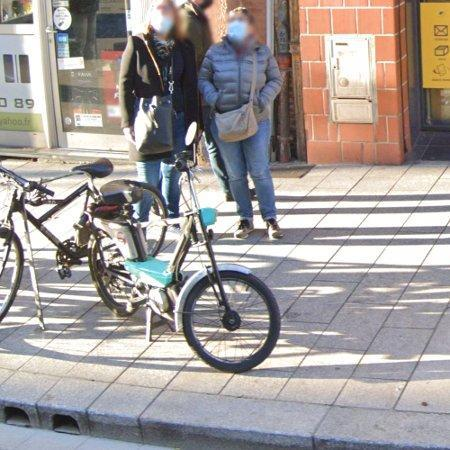bicycles: (88, 162, 280, 374), (0, 159, 167, 328)
